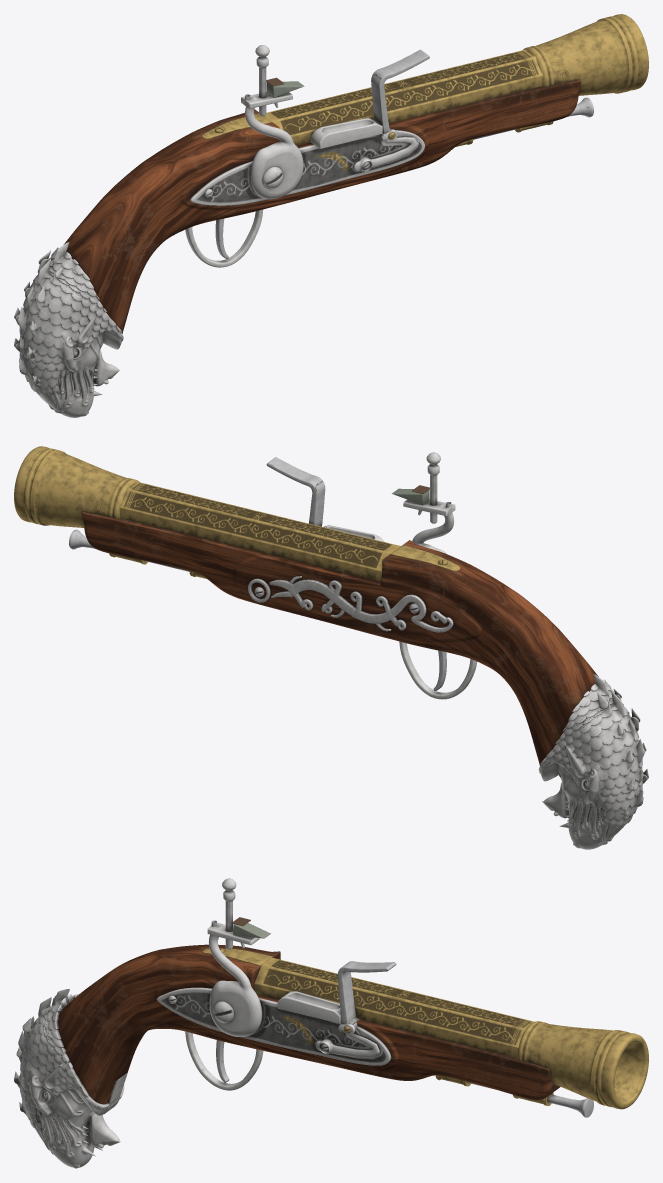
Rendered from GargoylesBreath_lite.glb.
3 renders of one model, top to bottom at view 1: azimuth 30°, elevation 25°; view 2: azimuth 150°, elevation 25°; view 3: azimuth 330°, elevation 25°, orthographic.
Visible parts, largest first — view 1: Stock, ButtCap_Gargoyle, Barrel, Barrel_Muzzle, LockPlate, Cock, Pan, Frizzen, TriggerGuard, FrizzenSpring, Cock_JawScrew; view 2: Stock, ButtCap_Gargoyle, Barrel, Barrel_Muzzle, SidePlate, Frizzen, Cock, TriggerGuard, BarrelTang, Cock_JawScrew; view 3: Stock, Barrel, ButtCap_Gargoyle, Barrel_Muzzle, LockPlate, Cock, Pan, Frizzen, TriggerGuard, FrizzenSpring, Cock_JawScrew, Ramrod (+1 smaller).
Boxes of the visible parts, x1,y1,x2,y2 form: Stock: (63, 79, 580, 333); ButtCap_Gargoyle: (14, 242, 123, 417); Barrel: (265, 49, 543, 145); Barrel_Muzzle: (523, 14, 648, 95); LockPlate: (190, 130, 424, 205); Cock: (241, 92, 303, 199); Pan: (311, 118, 397, 148); Frizzen: (371, 49, 429, 133); TriggerGuard: (185, 209, 263, 267); FrizzenSpring: (353, 137, 417, 171); Cock_JawScrew: (255, 45, 269, 116); Stock: (82, 512, 598, 765); ButtCap_Gargoyle: (538, 674, 648, 849); Barrel: (119, 481, 400, 581); Barrel_Muzzle: (14, 446, 139, 527); SidePlate: (248, 576, 453, 632); Frizzen: (266, 457, 325, 526); Cock: (403, 499, 455, 553); TriggerGuard: (399, 641, 476, 699); BarrelTang: (390, 545, 460, 570); Cock_JawScrew: (426, 452, 440, 523); Stock: (58, 944, 560, 1104); Barrel: (254, 957, 534, 1057); ButtCap_Gargoyle: (14, 989, 124, 1168); Barrel_Muzzle: (517, 1021, 648, 1109); LockPlate: (156, 987, 391, 1065); Cock: (207, 920, 262, 1036); Pan: (277, 991, 355, 1034); Frizzen: (337, 961, 396, 1035); TriggerGuard: (185, 1031, 263, 1090); FrizzenSpring: (315, 1033, 379, 1057); Cock_JawScrew: (222, 878, 236, 949); Ramrod: (467, 1082, 593, 1117).
Size of the model in its own units: 0.4505 by 0.2391 by 0.0596.
Materials: 4 (4 with a texture image).
